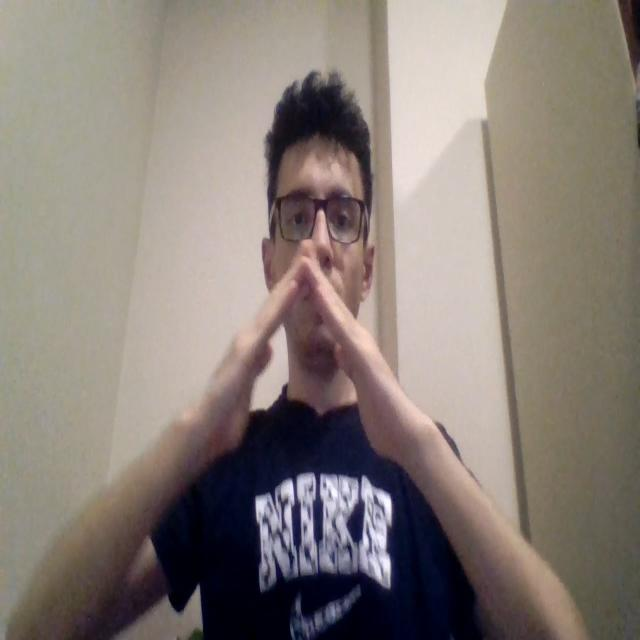house: (184, 237, 409, 475)
